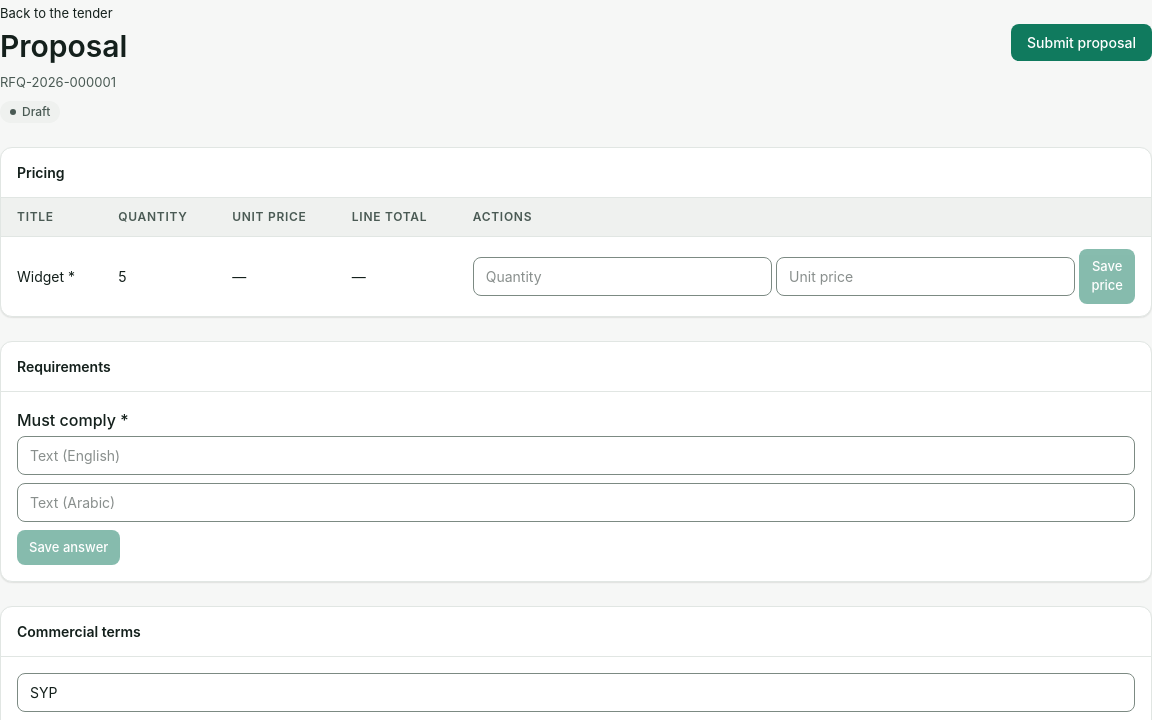
Test case: SupplierProposalPage › a 412 opens the SCR-151 reconcile dialog rather than a toast
The image size is (1152, 720).
Type "25" into the number field named "Unit price - Widget" at (926, 276), box 776,256 -> 1075,296
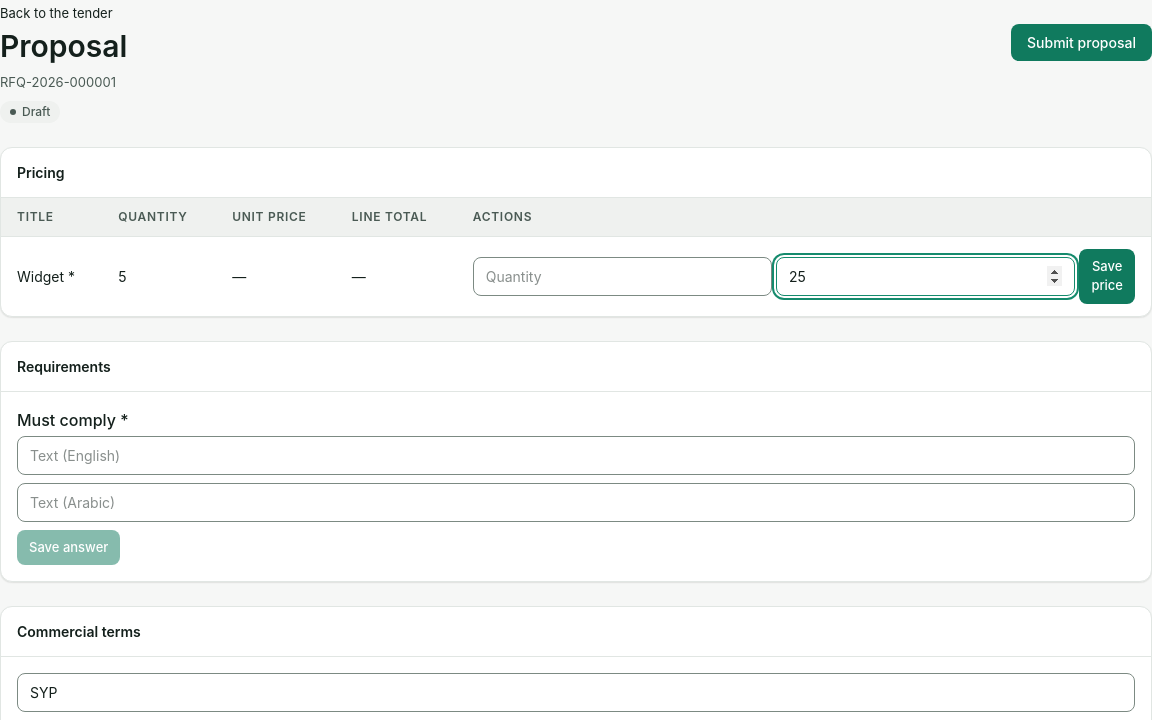
Click the button "Save price" at (1107, 276), box 1079,248 -> 1135,304
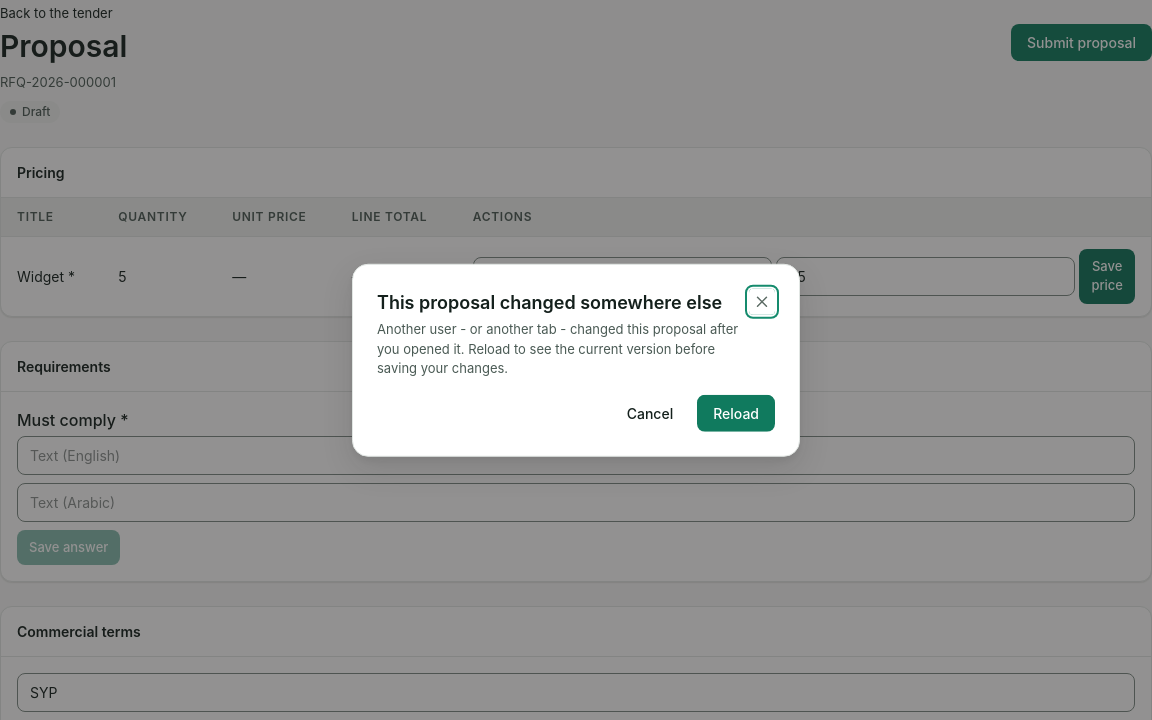
Check: the heading "This proposal changed somewhere else" is shown, box 377,289 -> 749,316
Check: the button "Reload" is shown, box 697,394 -> 775,431
